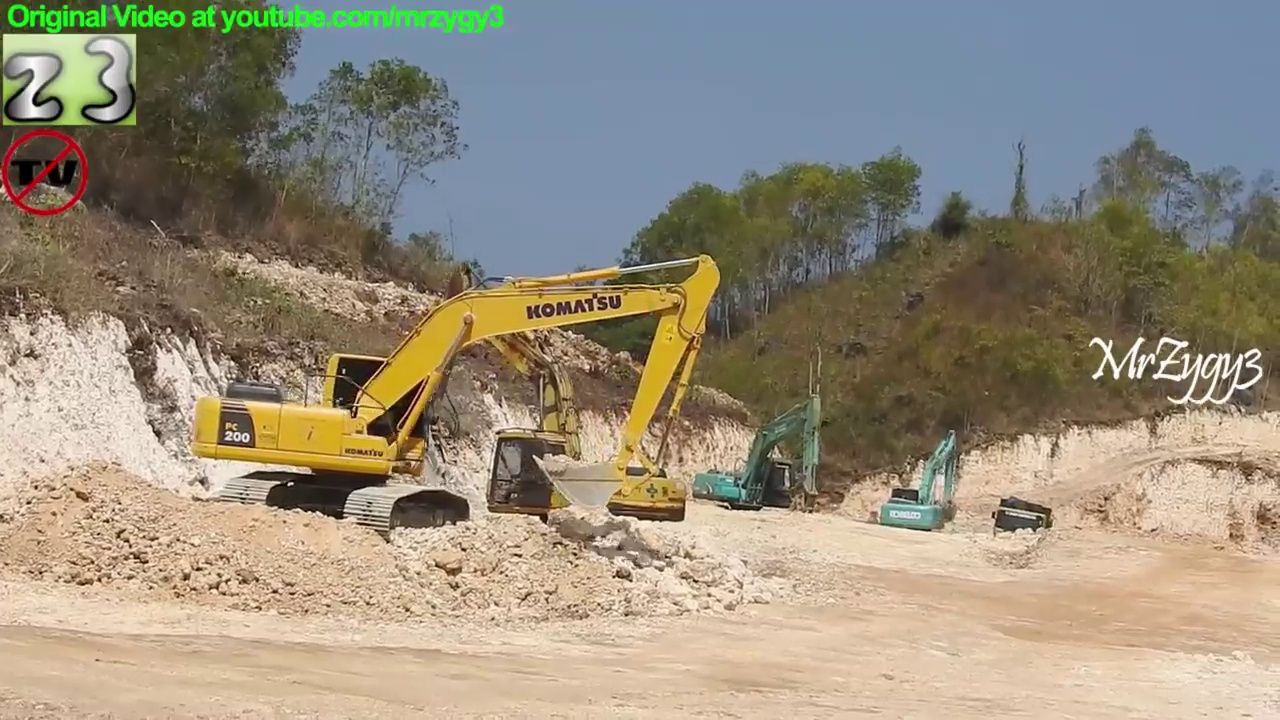excavator: (184, 248, 724, 548), (395, 255, 691, 544), (688, 389, 827, 530), (874, 424, 967, 545)
truck: (988, 492, 1060, 567)
